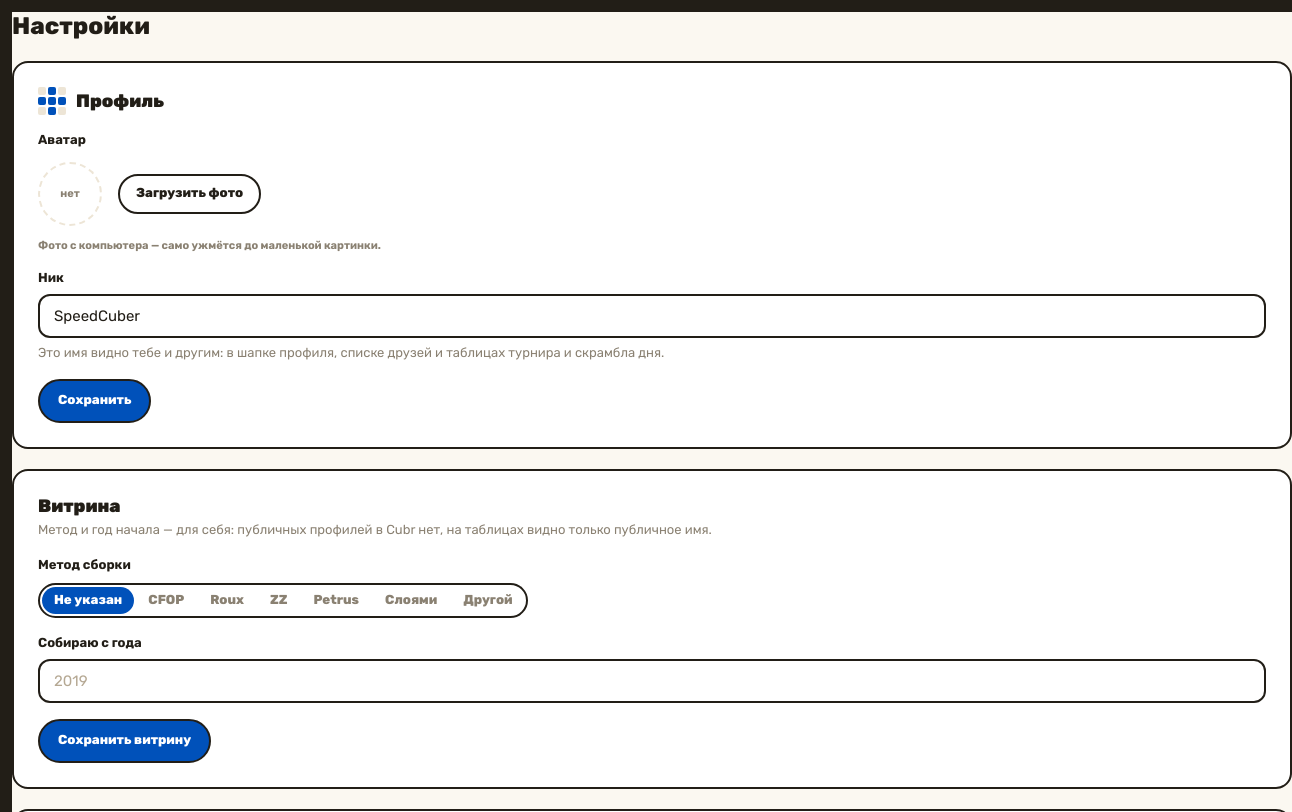
it: SettingsPage — handle + avatar › показывает «занято», когда сохранение ловит HANDLE_TAKEN
Replace the text in the field labelled "Ник" with "TakenHandle" at (652, 316), box left=38, top=294, right=1266, bottom=338
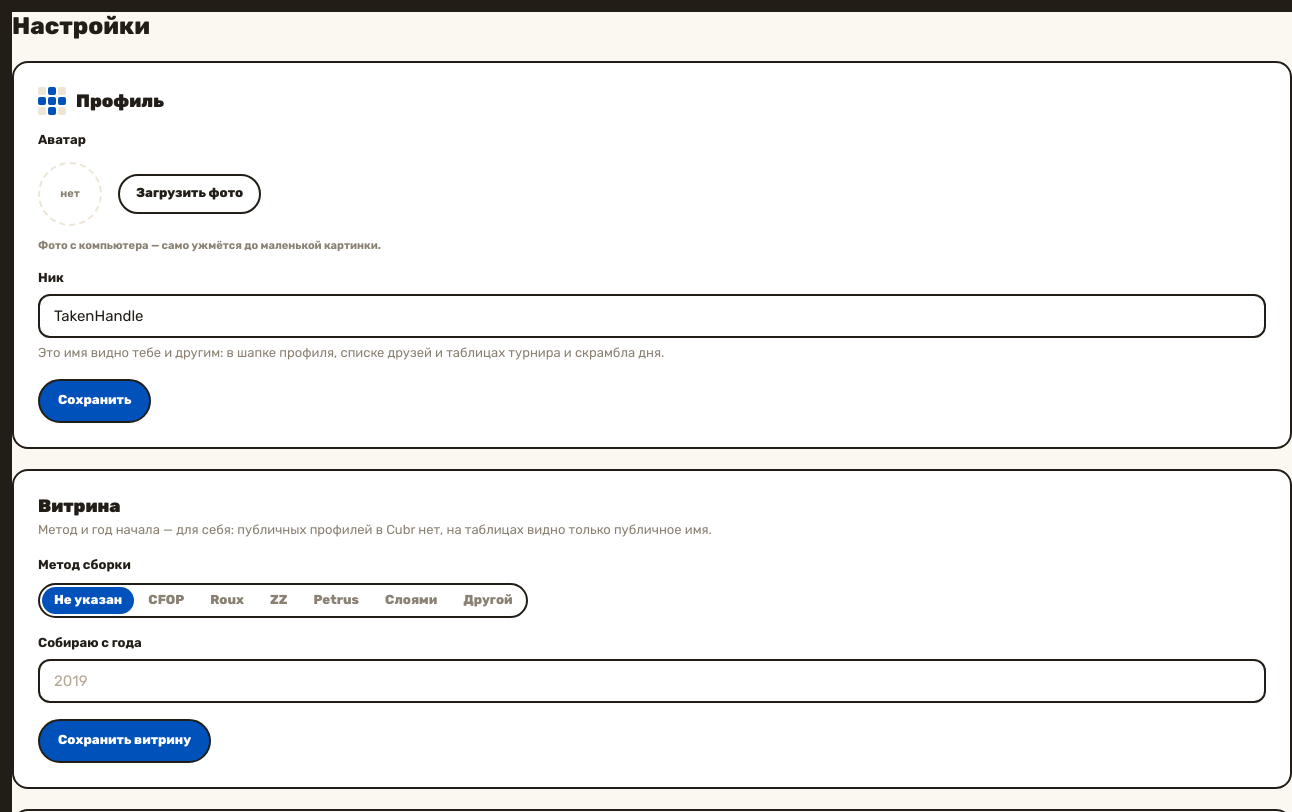
Click the button "Сохранить".
click(95, 401)  # box left=38, top=379, right=152, bottom=423
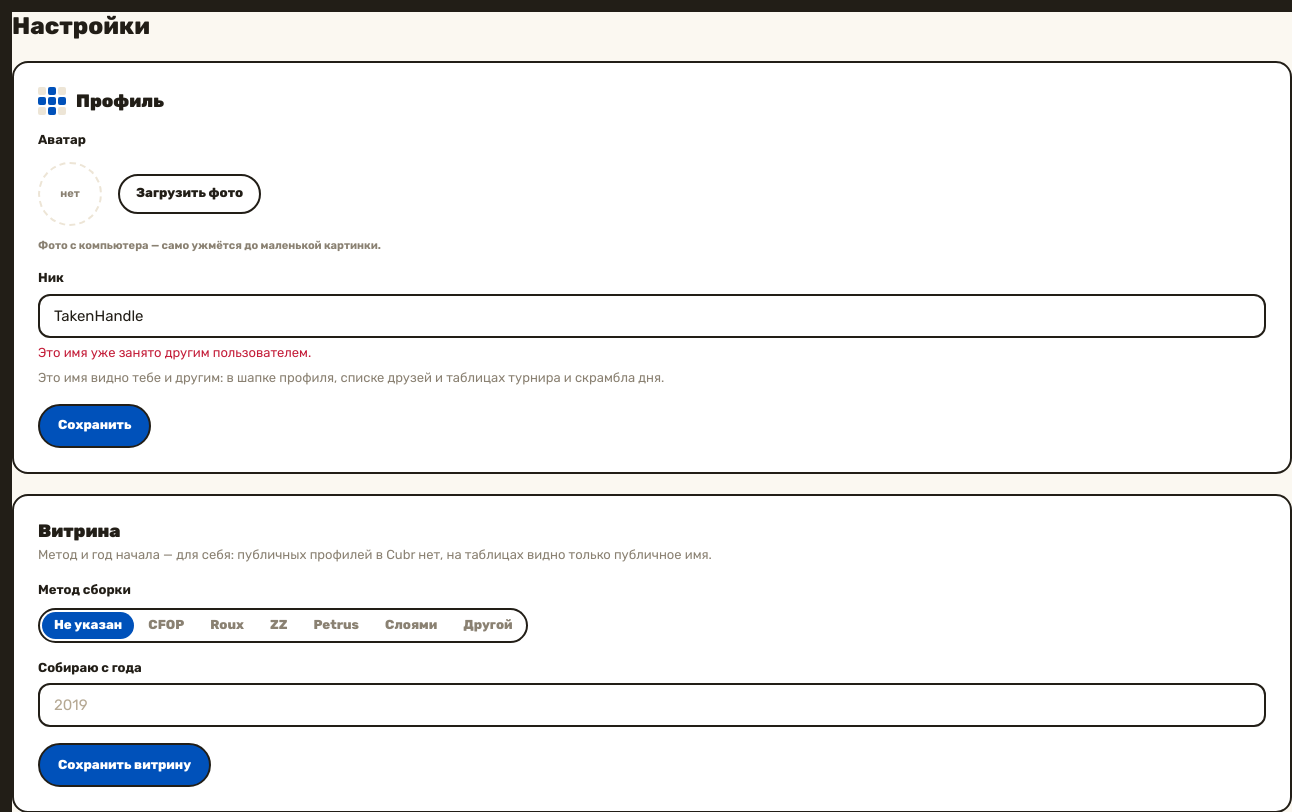
Expected: the text "Это имя уже занято другим пользователем." is shown, left=38, top=345, right=311, bottom=360
